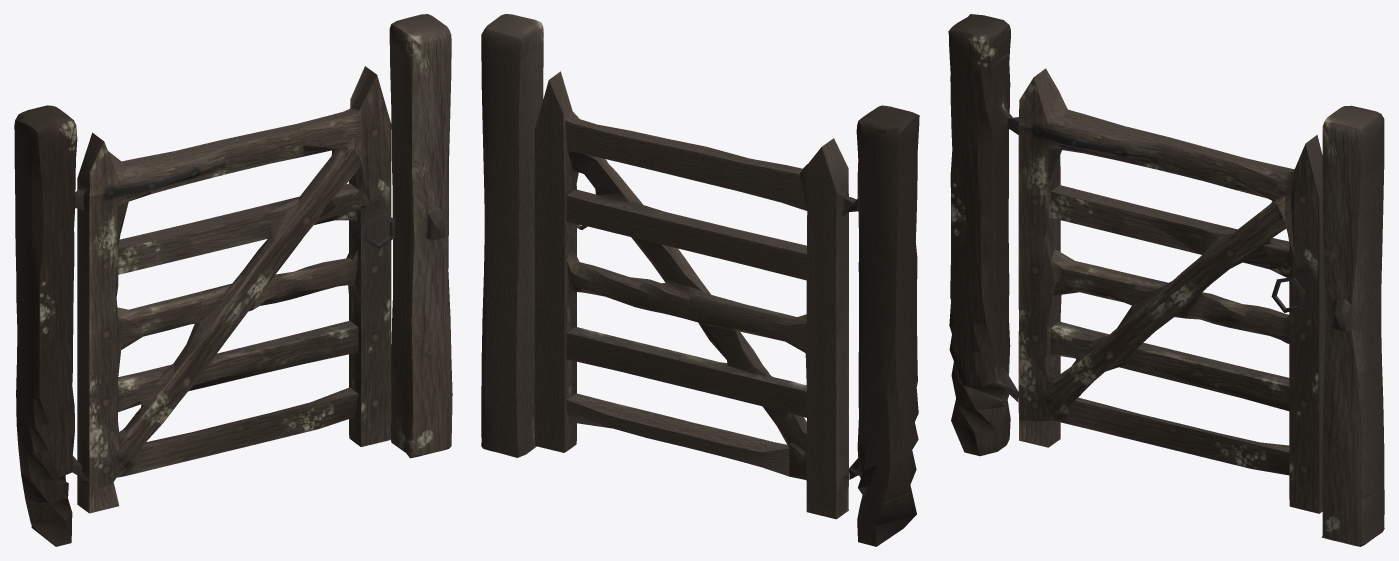
Rendered from ok-fence-gate-meshy.glb.
The picture shows the model from 3 angles, left to right: view 1: azimuth 30°, elevation 25°; view 2: azimuth 150°, elevation 25°; view 3: azimuth 330°, elevation 25°; orthographic projection.
Size of the model in its own units: 1.89 by 1.8 by 0.2334.
1 material, 1 textured.
